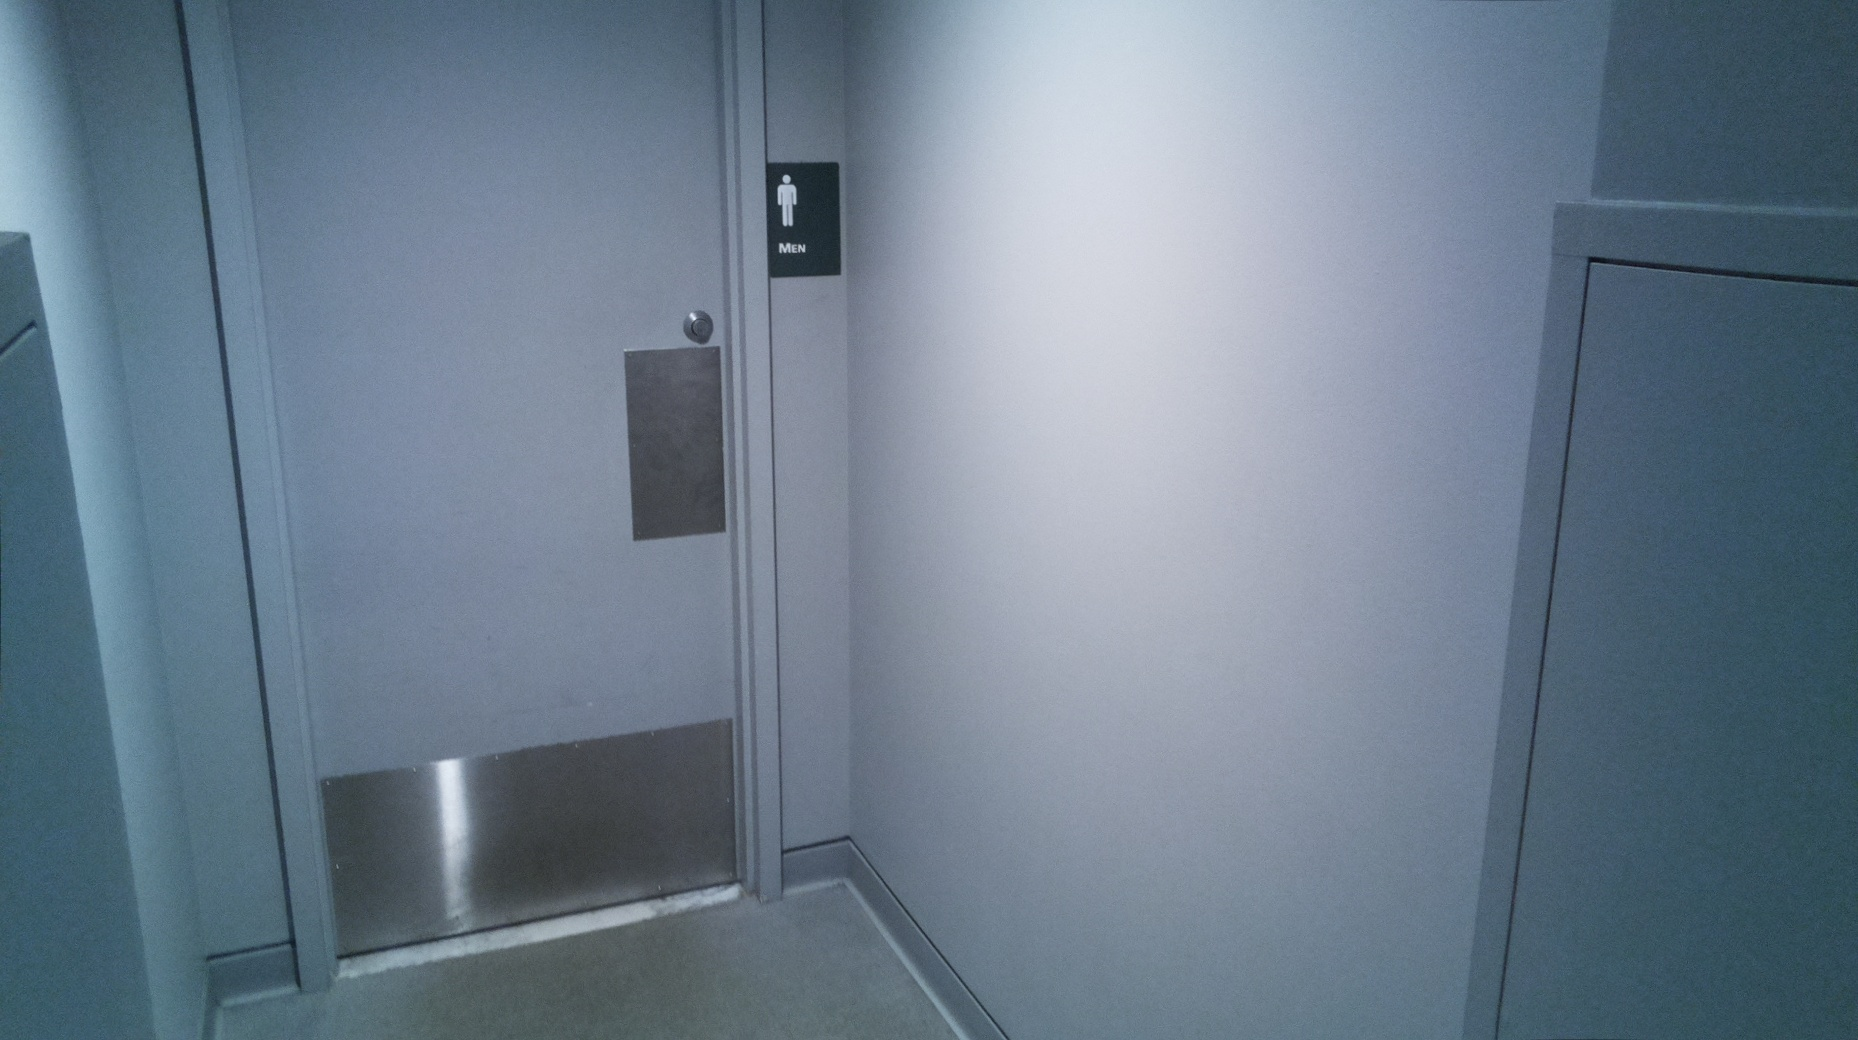bathroom sign: (762, 156, 846, 281)
